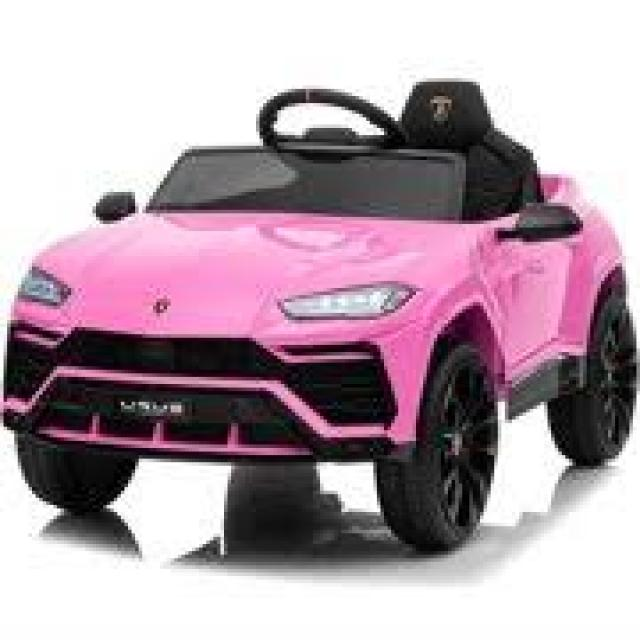Car: (0, 78, 636, 551)
